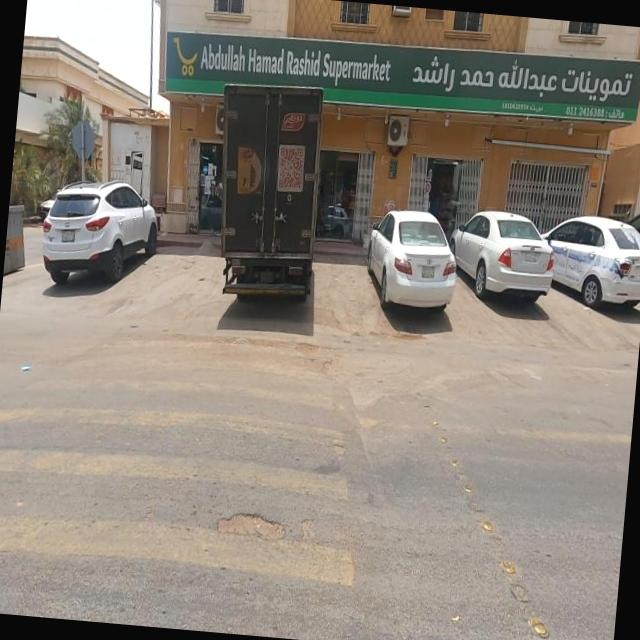debris: (0, 326, 58, 407)
